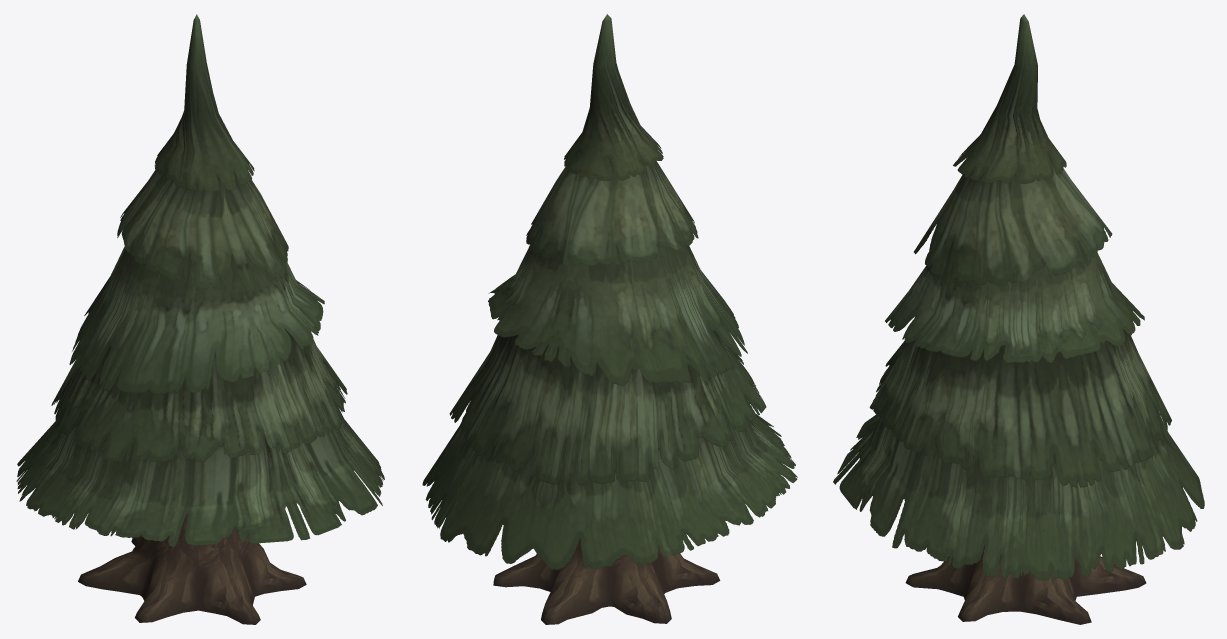
File: PineTree.FBX
The picture shows the model from 3 angles, left to right: view 1: azimuth 30°, elevation 25°; view 2: azimuth 150°, elevation 25°; view 3: azimuth 270°, elevation 25°; orthographic projection.
Visible parts, largest first — view 1: PineTree; view 2: PineTree; view 3: PineTree.
Part boxes in pixels (<box>): PineTree: <box>16,14,384,624</box>; PineTree: <box>422,14,797,624</box>; PineTree: <box>833,14,1204,624</box>.
Bounding box in the file's own units: 58.75 × 57.56 × 95.13.
